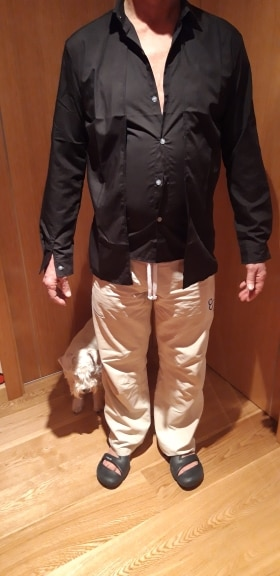shirts: (44, 9, 274, 287)
